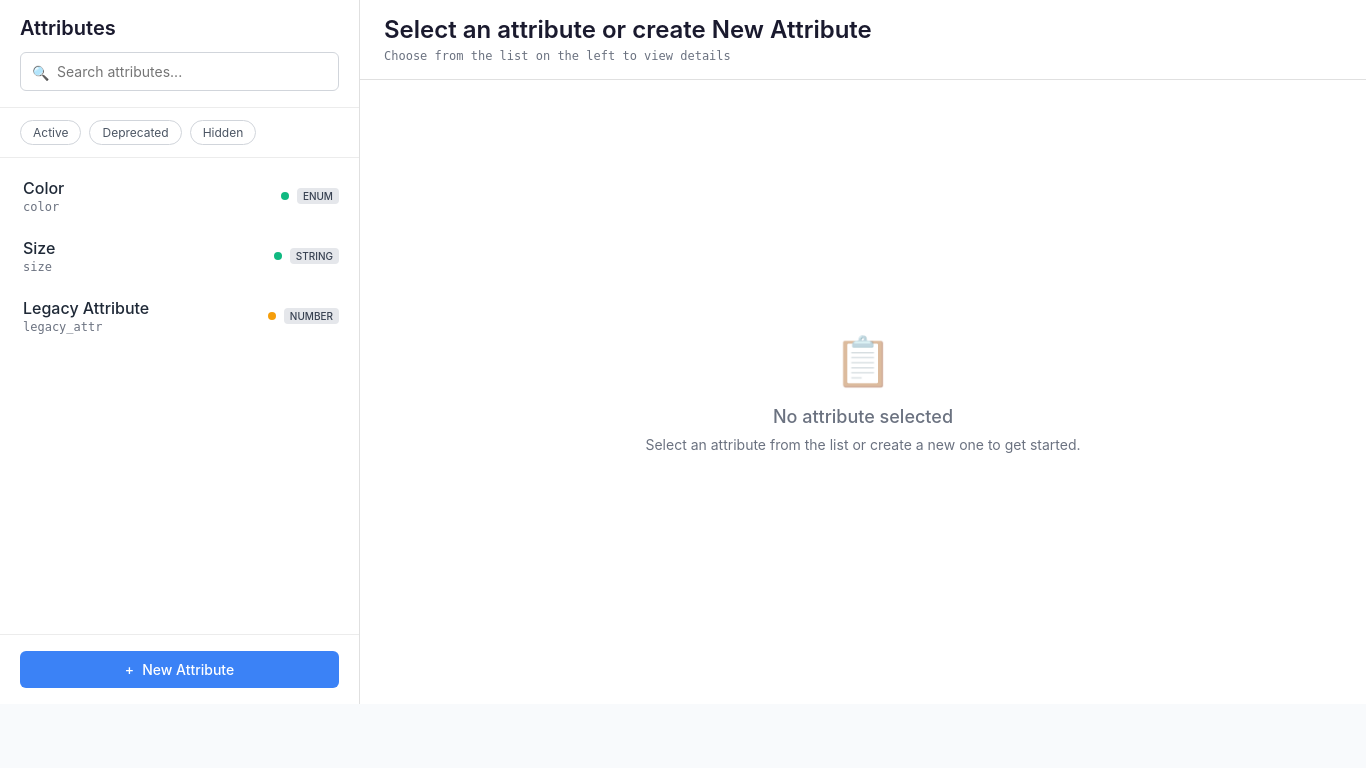
Test case: AttributesConsole Shell › shows detail panel when attribute is selected
// Click on an attribute
Click the option with test id "list-item-color" at (44, 188), box top-left (0, 166), bottom-right (359, 226)
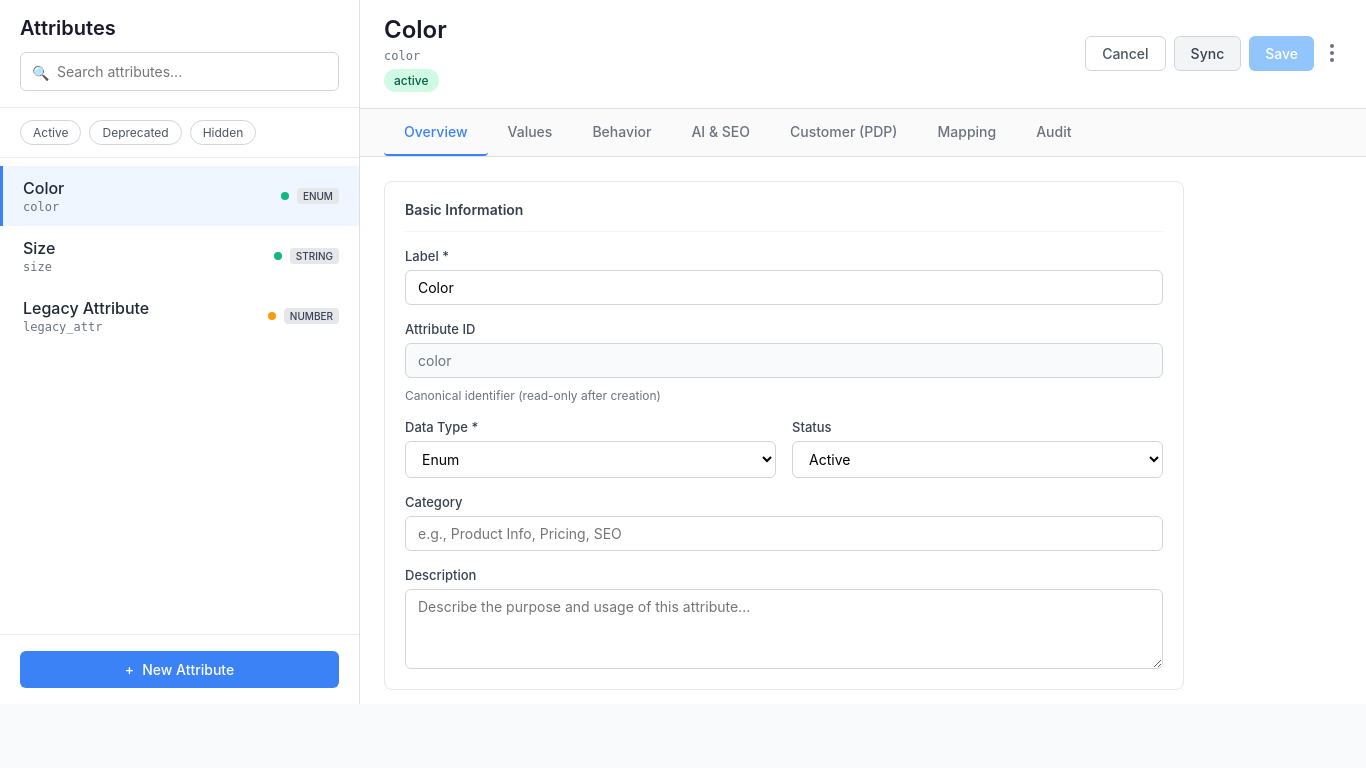
Now the heading with test id "header-label" reads "Color", box top-left (384, 15), bottom-right (447, 44)
Now the text with test id "header-id" reads "color", box top-left (384, 49), bottom-right (420, 63)
